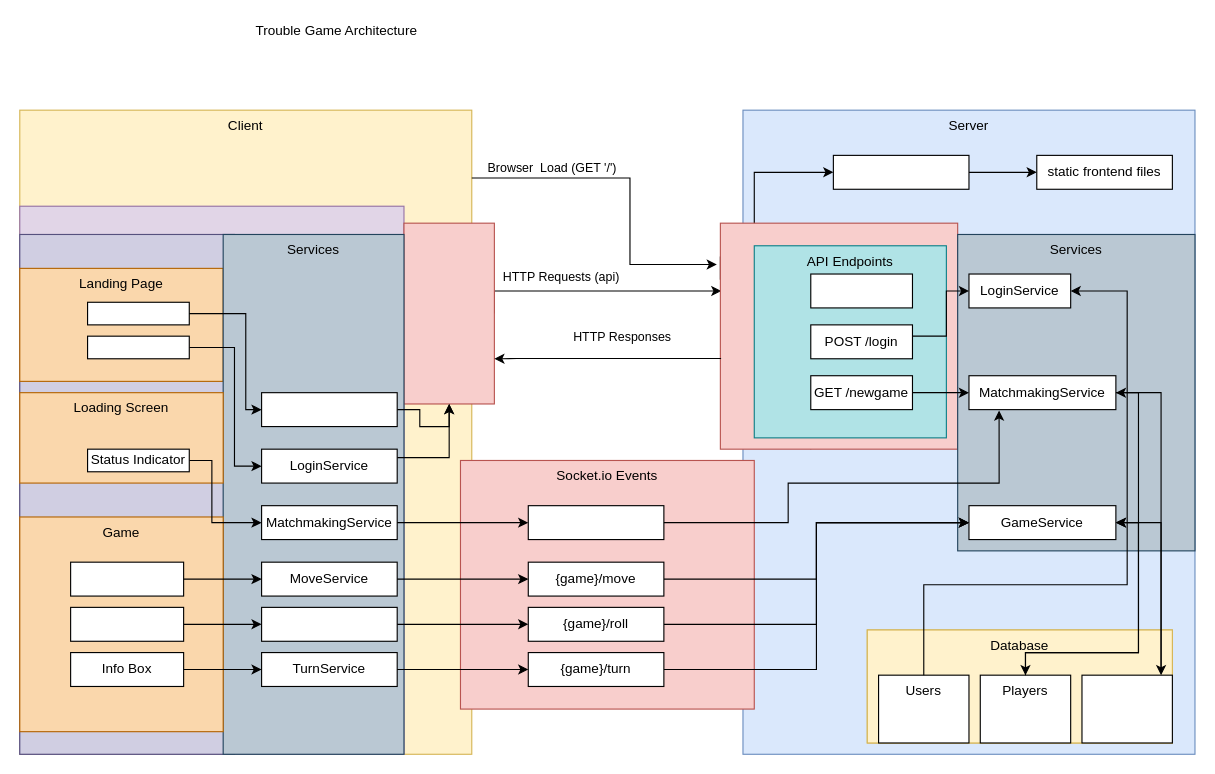
This 1215x774 diagram has some shape labels left out. Each missing label, with the box of its shape:
Board: (69, 561, 184, 596)
Dice: (69, 606, 184, 641)
DiceService?: (260, 606, 397, 641)
Express Server: (719, 222, 958, 449)
Games: (1081, 674, 1172, 743)
GET /: (832, 154, 969, 189)
GET /hello: (810, 273, 912, 308)
GetHello: (260, 392, 397, 427)
Hello World: (86, 301, 189, 325)
Login: (86, 335, 189, 359)
React app: (19, 205, 404, 754)
Server Proxy: (403, 222, 494, 404)
Views: (19, 233, 234, 754)
{game}/waitingRoom: (527, 505, 664, 540)
